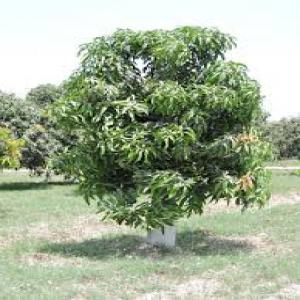Tree: (51, 23, 272, 249)
